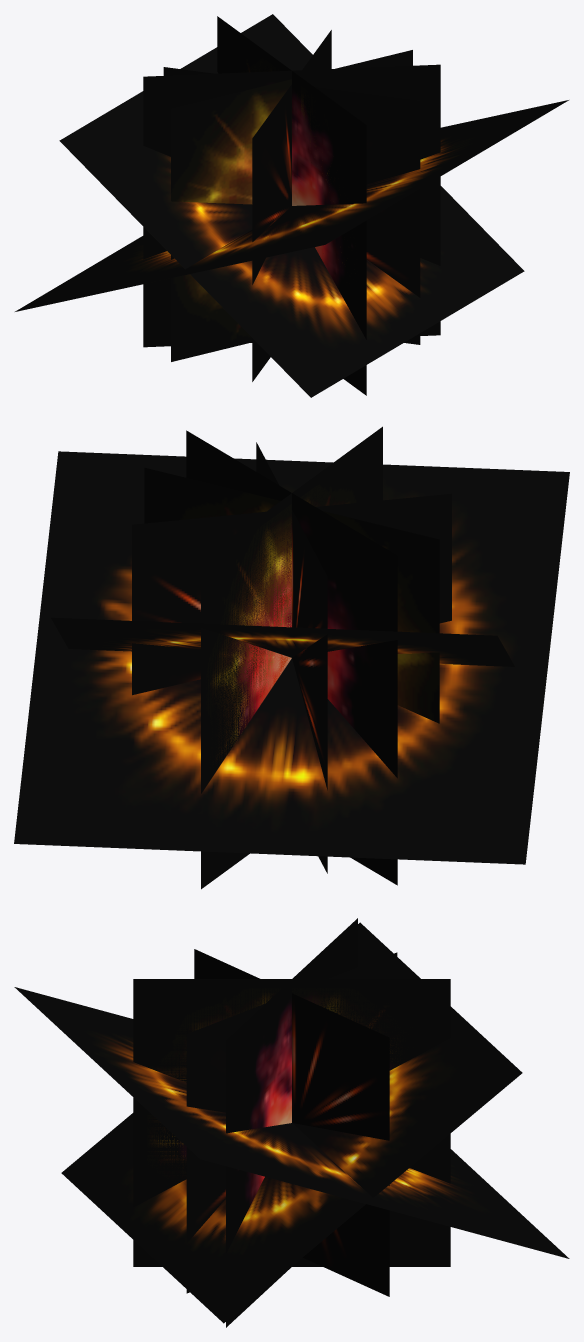
File: fx_scene_gudingbaozha.FBX
3 views of the same model, one above another, from view 1: azimuth 30°, elevation 25°; view 2: azimuth 150°, elevation 25°; view 3: azimuth 270°, elevation 25° (orthographic). The views are drawn at different scales.
Visible parts, largest first — view 1: Plane003; view 2: Plane003; view 3: Plane003.
Boxes of the visible parts, <box> form: Plane003: <box>15,14,568,397</box>; Plane003: <box>14,426,569,889</box>; Plane003: <box>14,918,569,1327</box>.
Size of the model in its own units: 151 by 146 by 83.22.
1 material, 1 textured.
